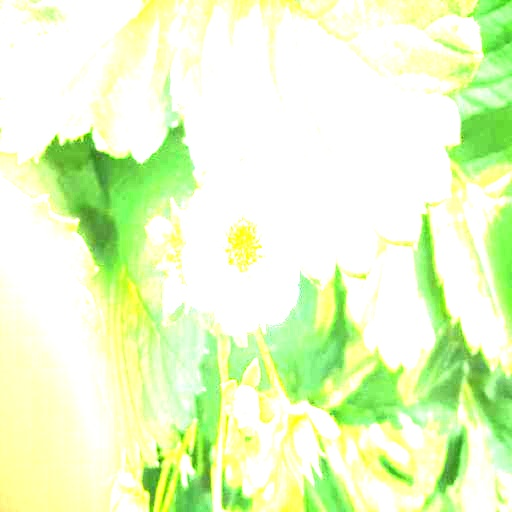Blossom Blight: (215, 209, 272, 286)
